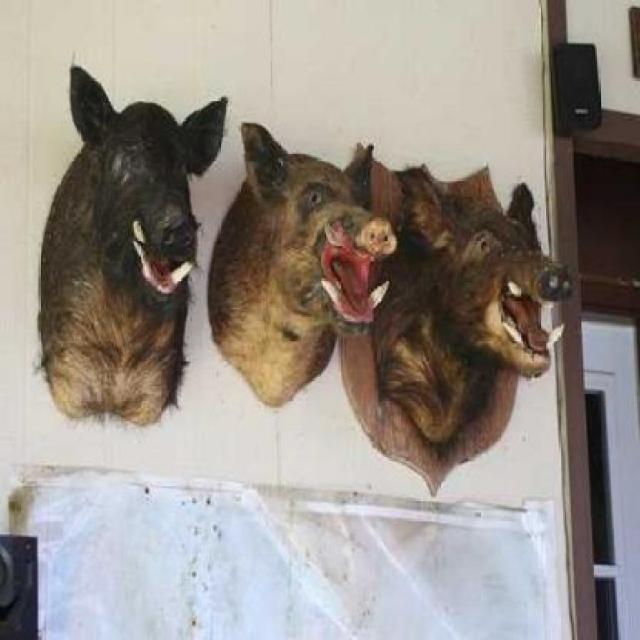pig: (58, 57, 215, 414)
